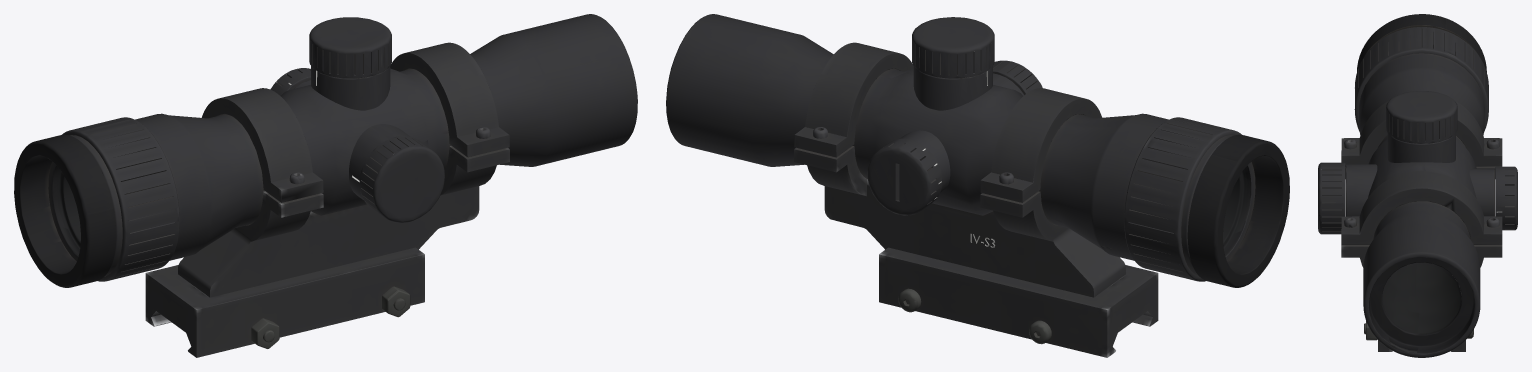
Rendered from IVS3_Scope_LOD1.glb.
3 views of the same model, side by side, from view 1: azimuth 30°, elevation 25°; view 2: azimuth 150°, elevation 25°; view 3: azimuth 270°, elevation 25° (orthographic). The views are drawn at different scales.
Parts seen in each view (by area): view 1: SM_IVS3_Scope_LOD1; view 2: SM_IVS3_Scope_LOD1; view 3: SM_IVS3_Scope_LOD1.
Part boxes in pixels (x1,y1,x2,y2): SM_IVS3_Scope_LOD1: (14,14,637,357); SM_IVS3_Scope_LOD1: (666,14,1289,357); SM_IVS3_Scope_LOD1: (1318,14,1517,357).
Size of the model in its own units: 0.17 by 0.0776 by 0.0614.
Materials: 3 (1 with a texture image).
